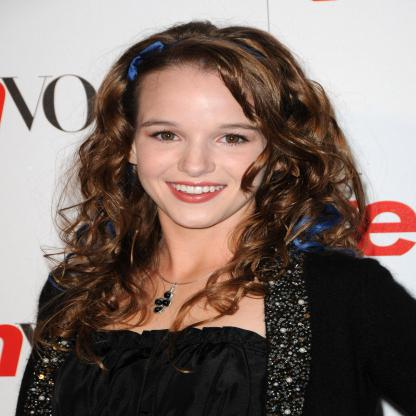long-hair: (37, 230, 360, 272)
